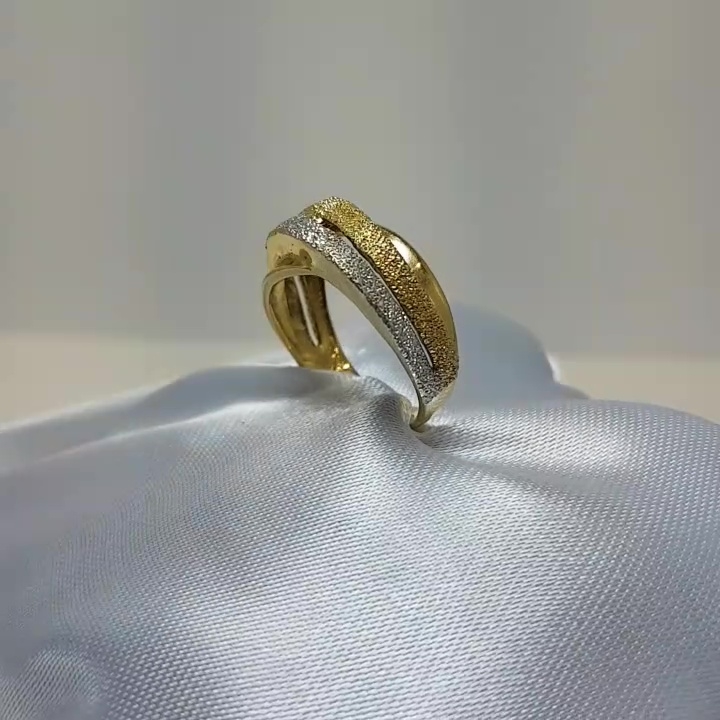Ring 5: (242, 186, 479, 458)
